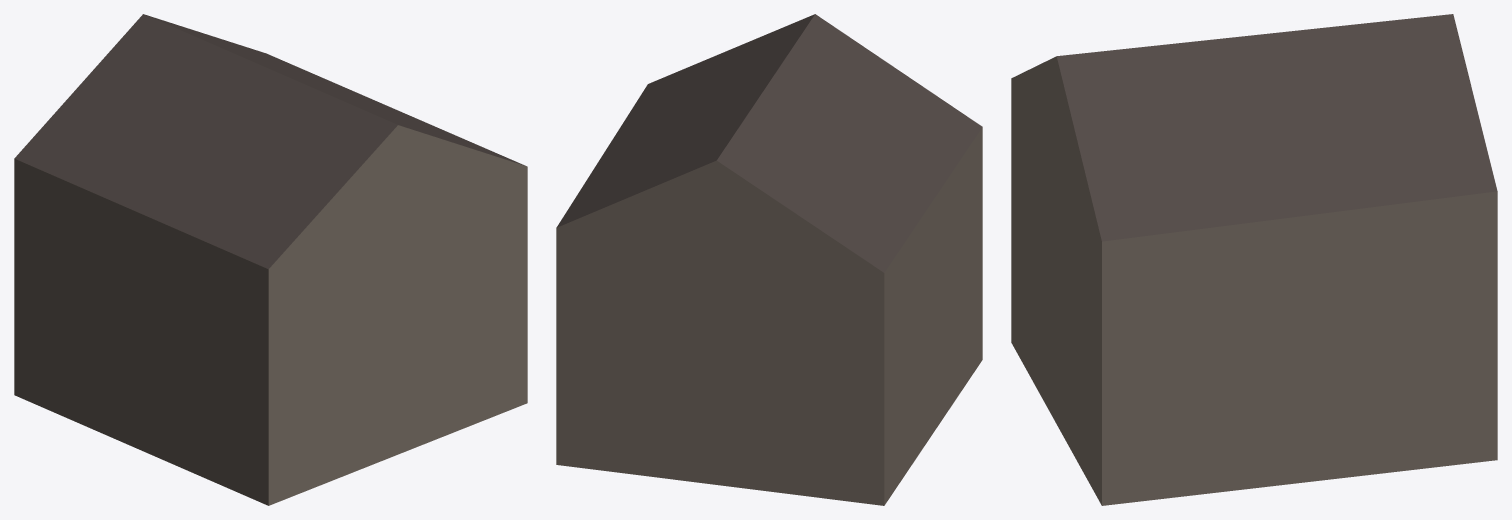
3 renders of one model, left to right at view 1: azimuth 30°, elevation 25°; view 2: azimuth 150°, elevation 25°; view 3: azimuth 270°, elevation 25°, orthographic. The views are drawn at different scales.
Visible parts, largest first — view 1: HP-w776801050; view 2: HP-w776801050; view 3: HP-w776801050.
Boxes of the visible parts, x1,y1,x2,y2 form: HP-w776801050: (14, 14, 527, 505); HP-w776801050: (556, 14, 982, 505); HP-w776801050: (1011, 14, 1497, 505).
Size of the model in its own units: 10 by 8.36 by 10.
